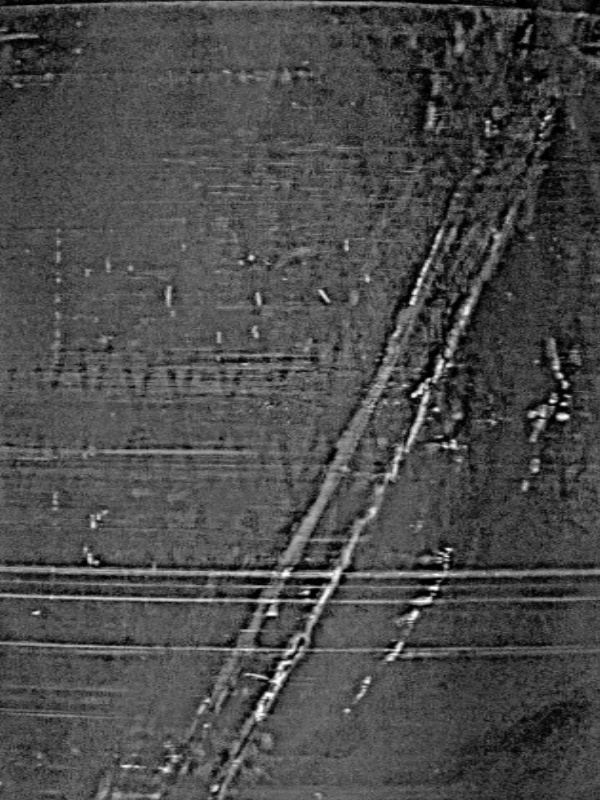splice_vulcanized: (107, 10, 588, 800)
